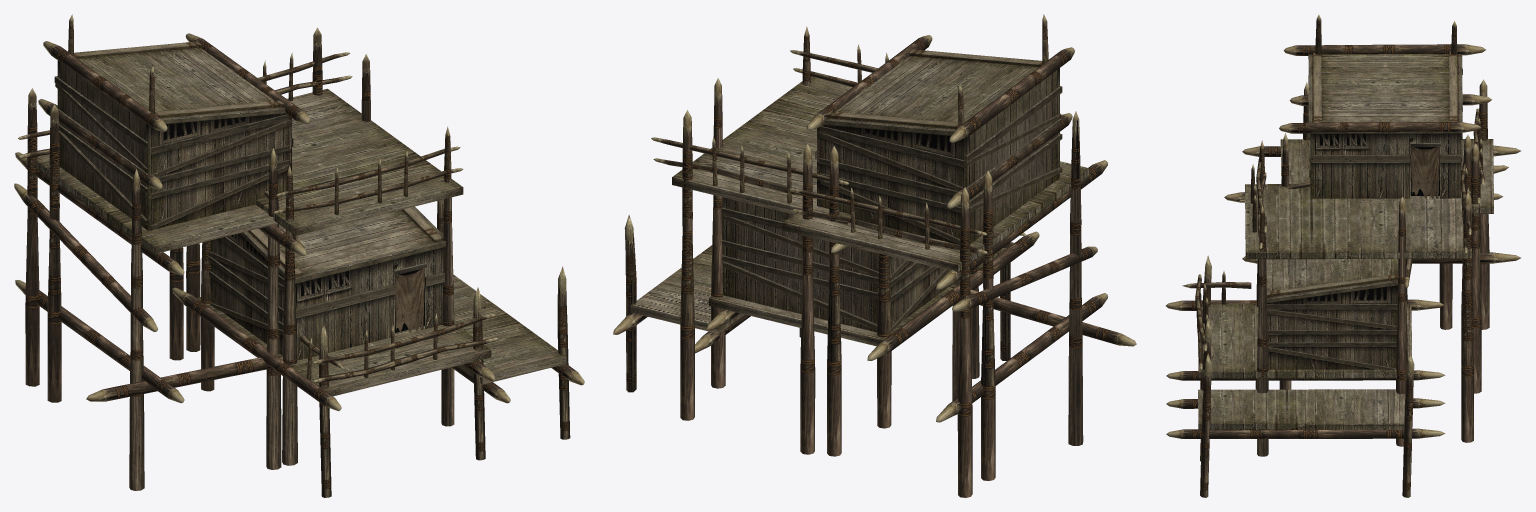
Rendered from gaint_builda_08.fbx.
3 views of the same model, side by side, from view 1: azimuth 30°, elevation 25°; view 2: azimuth 150°, elevation 25°; view 3: azimuth 270°, elevation 25° (orthographic). The views are drawn at different scales.
Visible parts, largest first — view 1: Object19, objObject01; view 2: Object19, objObject01; view 3: Object19, objObject01.
Boxes of the visible parts, <box> form: Object19: <box>27,41,566,396</box>; objObject01: <box>14,14,584,497</box>; Object19: <box>631,49,1089,346</box>; objObject01: <box>613,14,1136,497</box>; Object19: <box>1198,52,1493,430</box>; objObject01: <box>1166,14,1520,497</box>.
Size of the model in its own units: 20.44 by 18.88 by 17.64.
